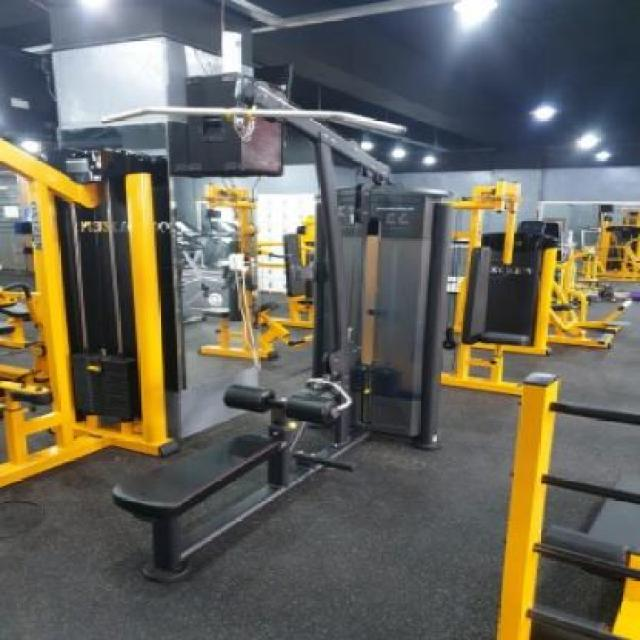Seated Cable Rows: (66, 70, 468, 608)
